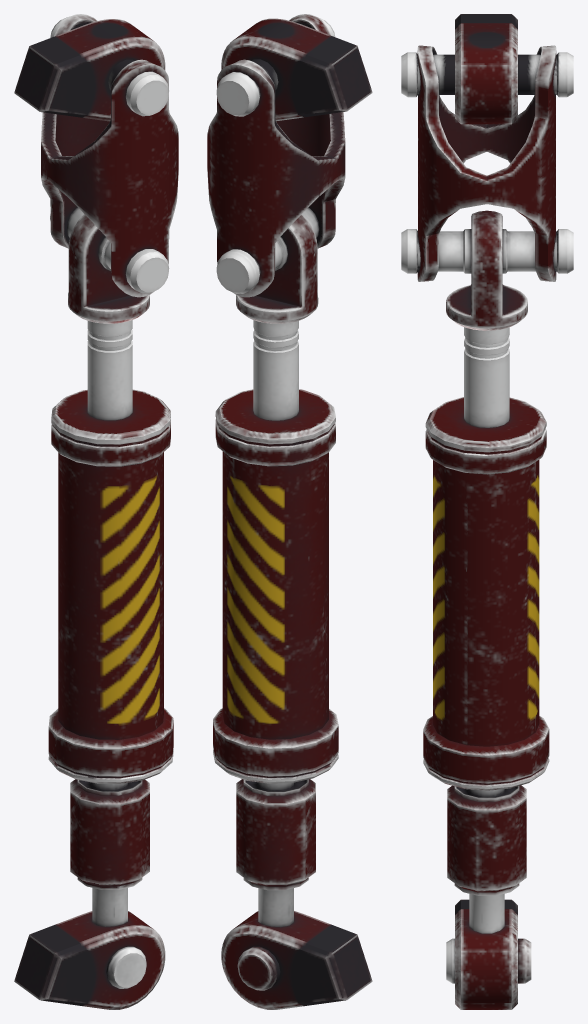
Rendered from SM_add_7_3.fbx.
The picture shows the model from 3 angles, left to right: view 1: azimuth 30°, elevation 25°; view 2: azimuth 150°, elevation 25°; view 3: azimuth 270°, elevation 25°; orthographic projection.
Parts seen in each view (by area): view 1: SM_add_7_3_LOD0; view 2: SM_add_7_3_LOD0; view 3: SM_add_7_3_LOD0.
Boxes of the visible parts, x1,y1,x2,y2 form: SM_add_7_3_LOD0: [14, 14, 178, 1009]; SM_add_7_3_LOD0: [207, 14, 372, 1009]; SM_add_7_3_LOD0: [401, 14, 573, 1009].
Bounding box in the file's own units: 10.78 × 11.24 × 69.66.
1 material, 1 textured.
